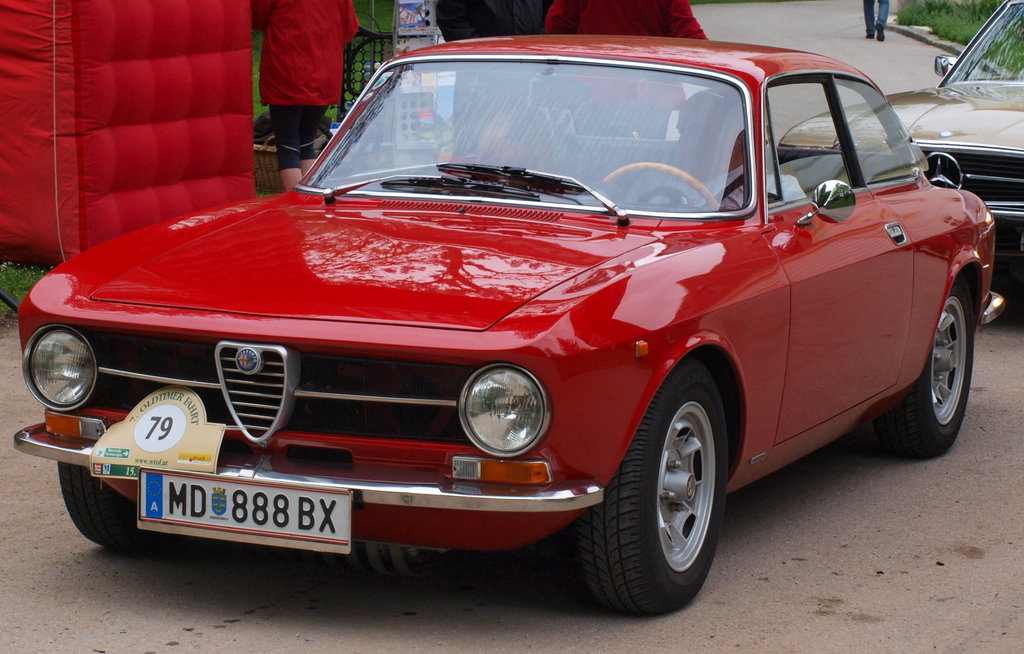Car: (14, 35, 1005, 616), (777, 0, 1023, 279)
